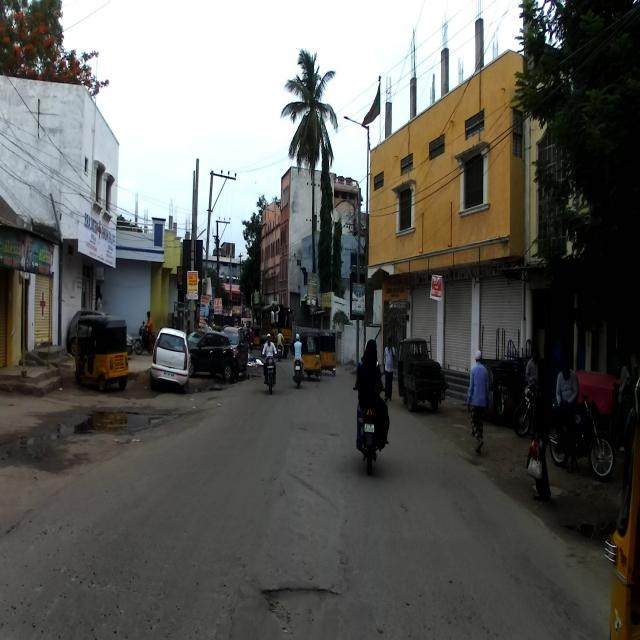pothole: (1, 398, 222, 486), (250, 480, 346, 640)
